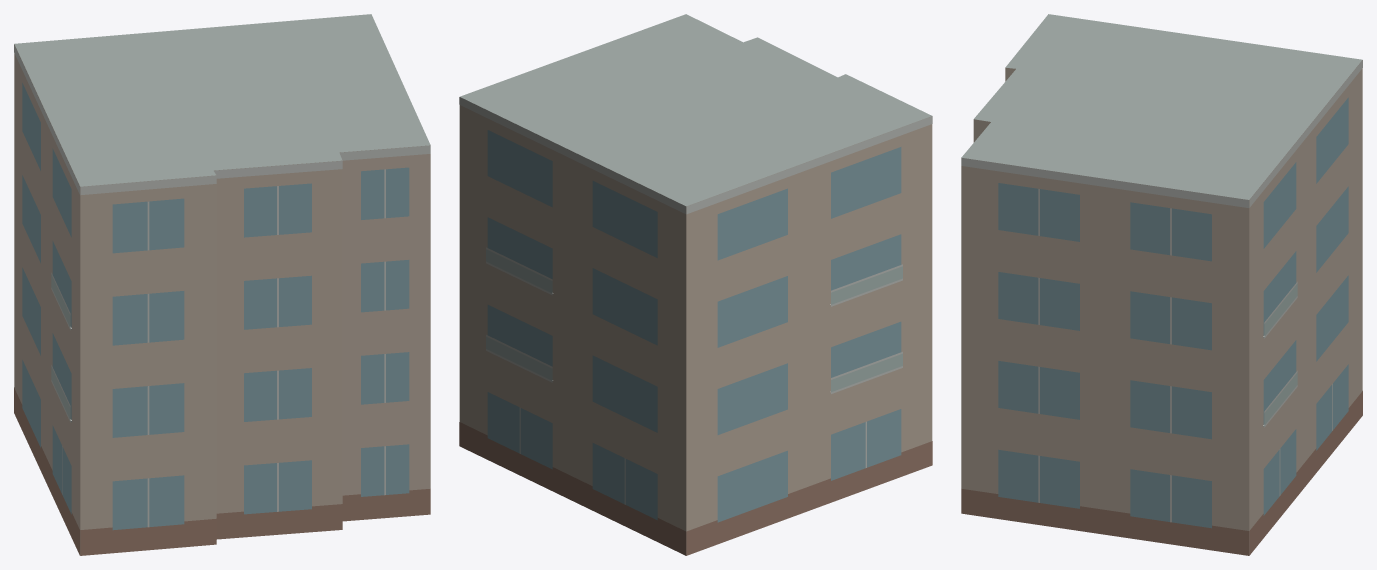
File: survey-upis-32536601.glb
3 renders of one model, left to right at view 1: azimuth 30°, elevation 25°; view 2: azimuth 150°, elevation 25°; view 3: azimuth 270°, elevation 25°, orthographic. The views are drawn at different scales.
Parts seen in each view (by area): view 1: survey-upis-32536601.tmp; view 2: survey-upis-32536601.tmp; view 3: survey-upis-32536601.tmp.
Boxes of the visible parts, box(x1,y1,x2,y2) form: survey-upis-32536601.tmp: box(14, 14, 430, 555); survey-upis-32536601.tmp: box(459, 14, 932, 555); survey-upis-32536601.tmp: box(961, 14, 1362, 555).
Bounding box in the file's own units: 11.89 × 10.6 × 10.85.
